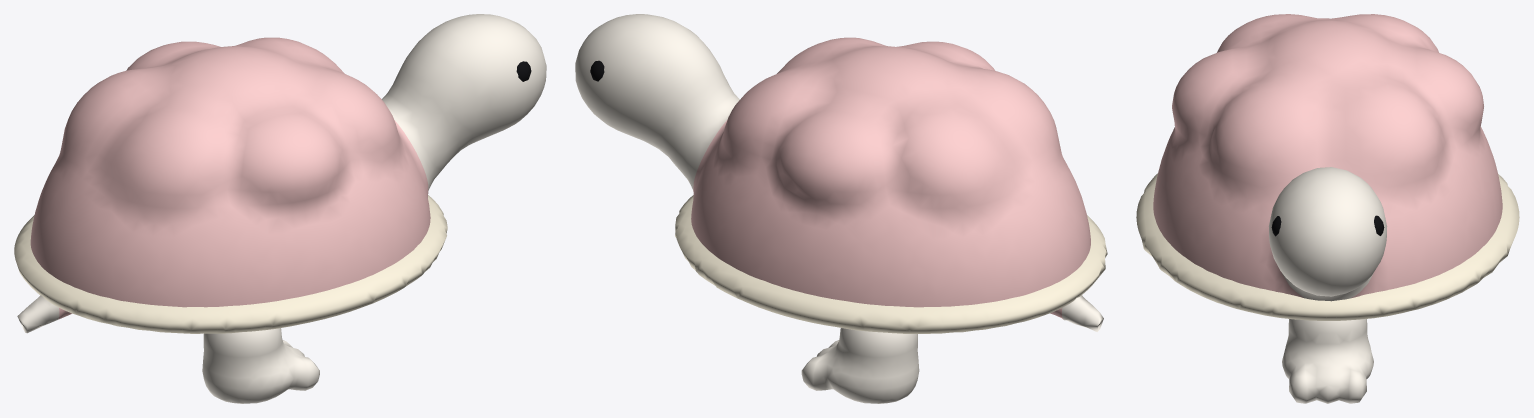
File: turtle_adult.glb
3 views of the same model, side by side, from view 1: azimuth 30°, elevation 25°; view 2: azimuth 150°, elevation 25°; view 3: azimuth 270°, elevation 25° (orthographic).
Parts seen in each view (by area): view 1: body, horn, leg; view 2: body, horn, leg; view 3: body, horn, leg.
Boxes of the visible parts, x1,y1,x2,y2 form: body: (17, 14, 546, 333); horn: (14, 195, 447, 333); leg: (202, 328, 319, 403); body: (575, 14, 1103, 331); horn: (675, 195, 1107, 333); leg: (801, 328, 919, 403); body: (1153, 14, 1502, 301); horn: (1136, 173, 1519, 320); leg: (1282, 319, 1373, 403).
Bounding box in the file's own units: 2.13 × 1.32 × 1.35.
